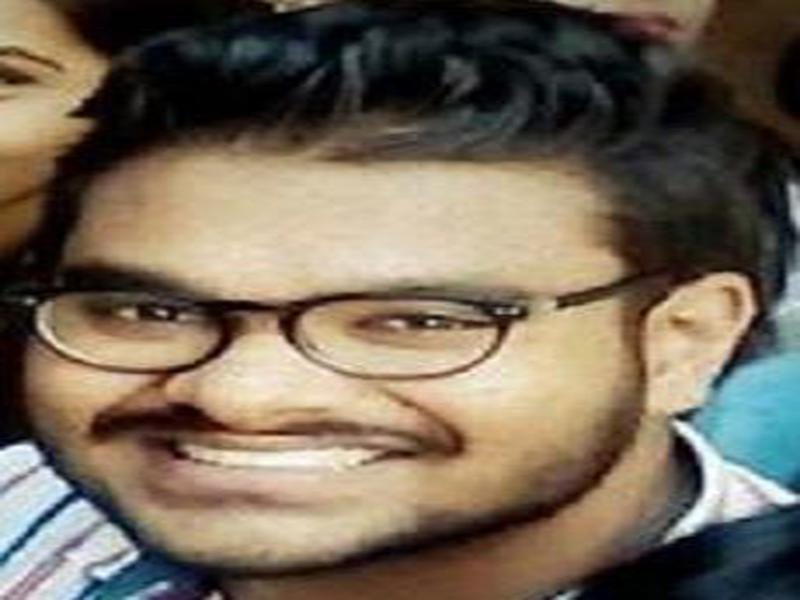without_mask: (27, 144, 631, 565)
